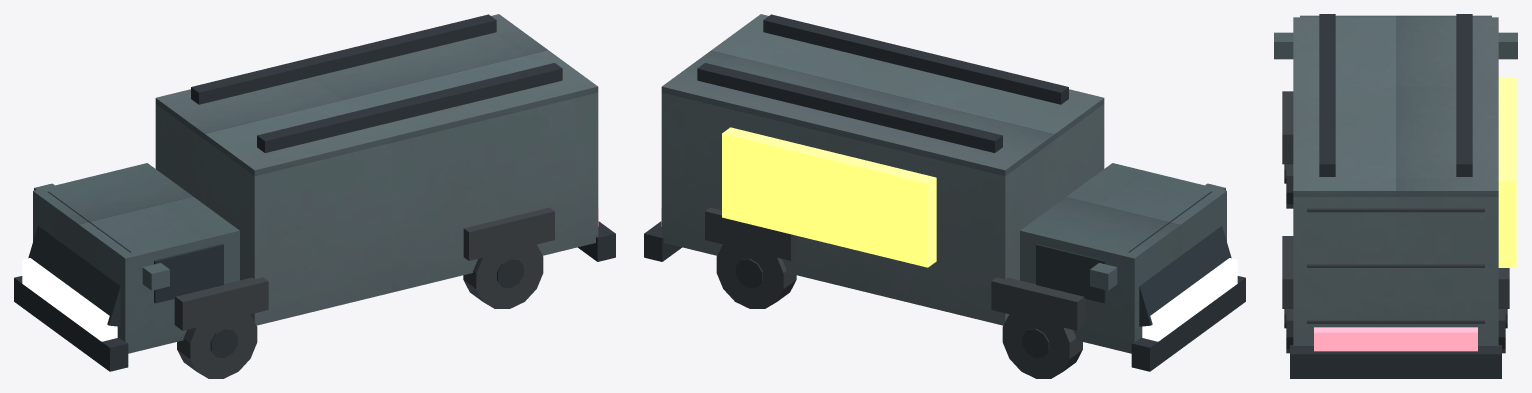
The model's file is decor-van.glb.
3 views of the same model, side by side, from view 1: azimuth 30°, elevation 25°; view 2: azimuth 150°, elevation 25°; view 3: azimuth 270°, elevation 25° (orthographic). The views are drawn at different scales.
Parts seen in each view (by area): view 1: DecorVan; view 2: DecorVan; view 3: DecorVan.
Part boxes in pixels (x1,y1,x2,y2): DecorVan: (14,14,615,378); DecorVan: (644,14,1245,378); DecorVan: (1274,14,1517,378).
Size of the model in its own units: 0.439 by 0.177 by 0.178.
8 materials, 2 textured.
